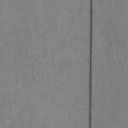surface scratch: (88, 0, 93, 128)
